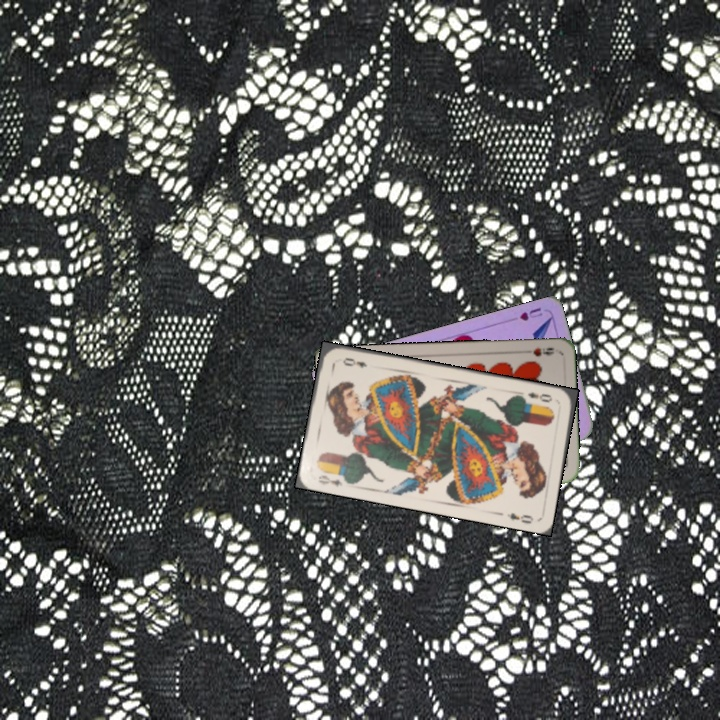EO: (314, 471, 345, 489), (524, 388, 555, 405)
H9: (529, 343, 557, 359)
HU: (515, 303, 545, 324)
